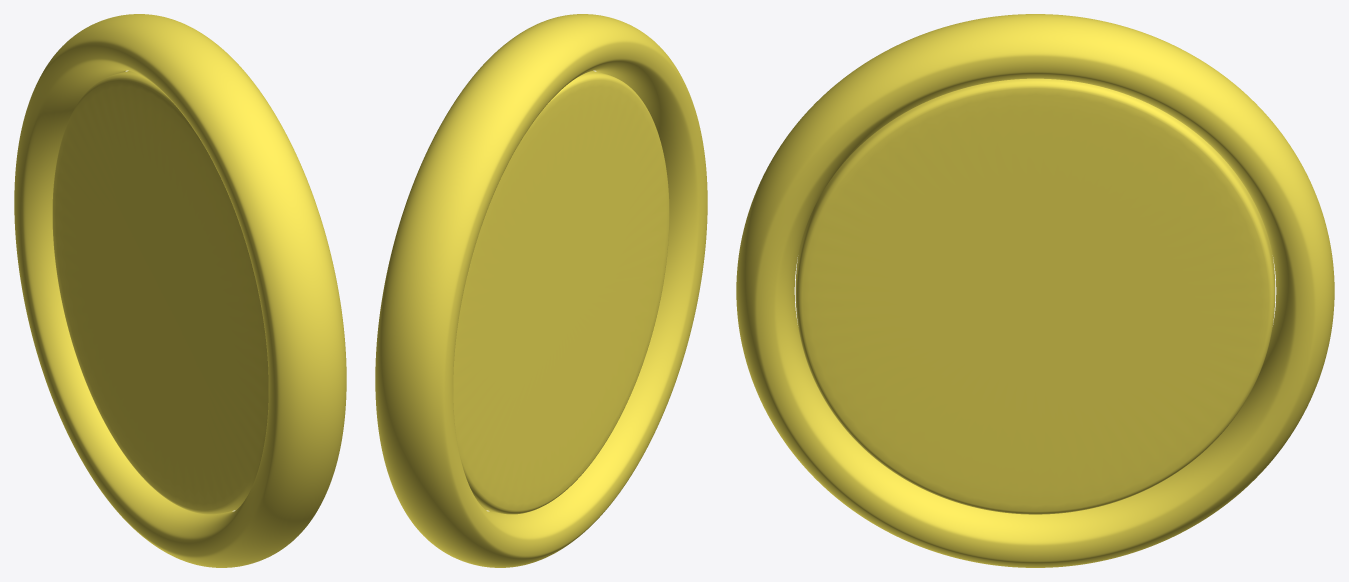
File: CoinPlain.glb
The picture shows the model from 3 angles, left to right: view 1: azimuth 30°, elevation 25°; view 2: azimuth 150°, elevation 25°; view 3: azimuth 270°, elevation 25°; orthographic projection. The views are drawn at different scales.
Visible parts, largest first — view 1: Mario_Coin; view 2: Mario_Coin; view 3: Mario_Coin.
Boxes of the visible parts, box(x1,y1,x2,y2) form: Mario_Coin: box(14, 14, 346, 567); Mario_Coin: box(375, 14, 707, 567); Mario_Coin: box(736, 14, 1334, 567).
Bounding box in the file's own units: 0.2889 × 1.99 × 1.99.
